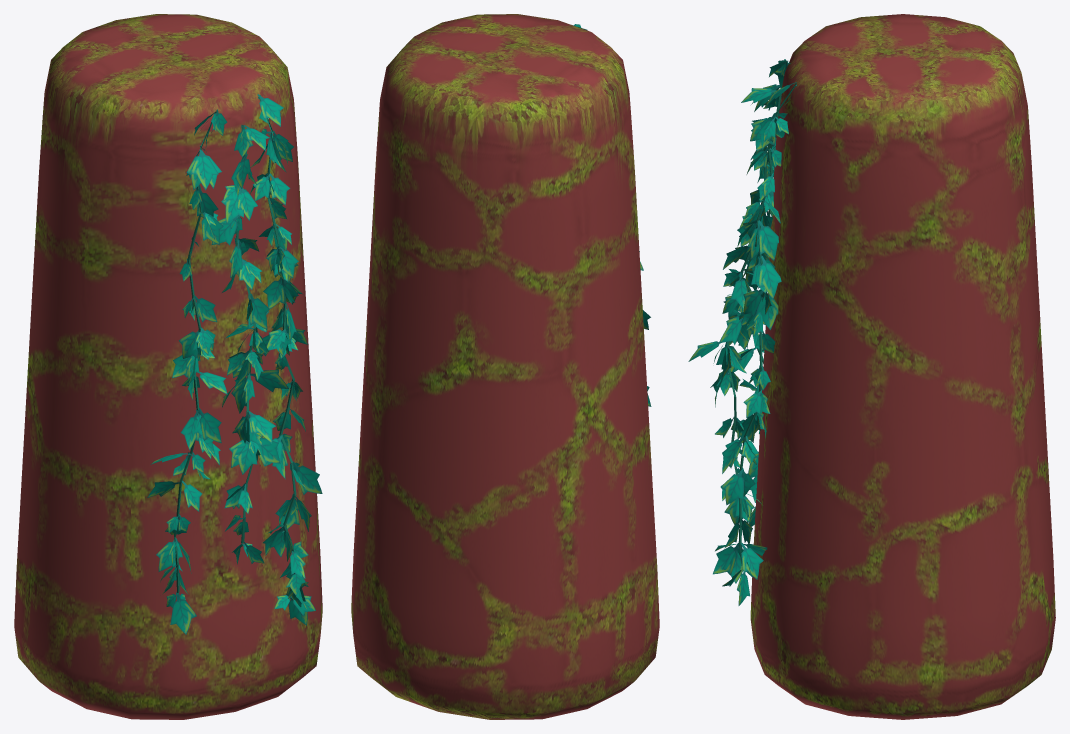
Rendered from камень с лианами 1.fbx.
3 renders of one model, left to right at view 1: azimuth 30°, elevation 25°; view 2: azimuth 150°, elevation 25°; view 3: azimuth 270°, elevation 25°, orthographic.
Visible parts, largest first — view 1: оригинал, ivy009.001, ivy009.001|лист|Dupli|116, ivy009.001|лист|Dupli|18, ivy009.001|лист|Dupli|65, ivy009.001|лист|Dupli|234; view 2: оригинал; view 3: оригинал, ivy009.001.
Part boxes in pixels (box(x1,y1,x2,y2)): оригинал: box(14, 14, 322, 719); ivy009.001: box(174, 95, 296, 592); ivy009.001|лист|Dupli|116: box(170, 592, 196, 634); ivy009.001|лист|Dupli|18: box(191, 149, 218, 190); ivy009.001|лист|Dupli|65: box(293, 461, 322, 494); ivy009.001|лист|Dupli|234: box(199, 408, 221, 443); оригинал: box(351, 14, 659, 719); оригинал: box(750, 14, 1055, 719); ivy009.001: box(727, 60, 796, 565).
Size of the model in its own units: 176 by 391 by 211.
